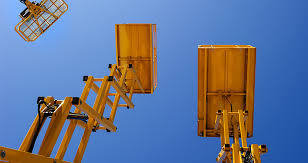Scissor Lift: (1, 22, 159, 163)
